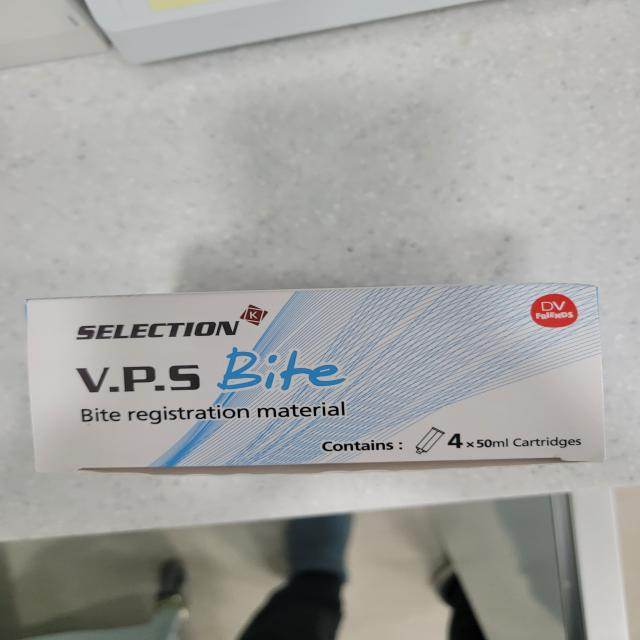impression: (14, 282, 640, 479)
